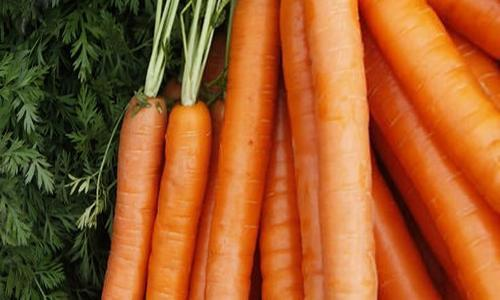carrot: (122, 0, 500, 298), (217, 0, 372, 300), (381, 1, 498, 299), (103, 86, 213, 300)
